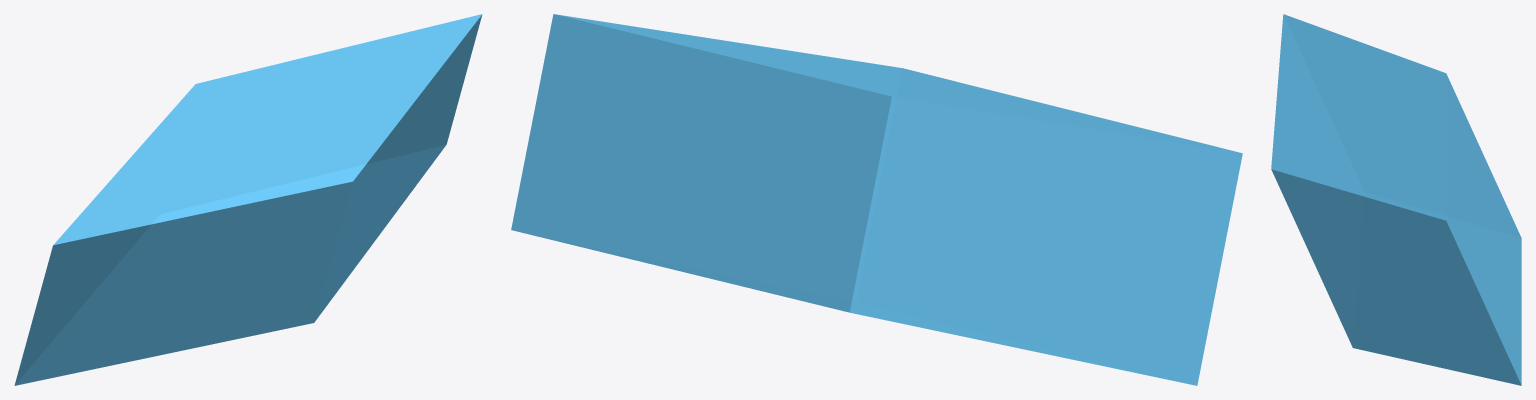
Rendered from Event_420604493_HBrechit_21.fbx.
The picture shows the model from 3 angles, left to right: view 1: azimuth 30°, elevation 25°; view 2: azimuth 150°, elevation 25°; view 3: azimuth 270°, elevation 25°; orthographic projection. The views are drawn at different scales.
Parts seen in each view (by area): view 1: Model; view 2: Model; view 3: Model.
Part boxes in pixels (bbox=[...]): Model: bbox=[14, 14, 482, 385]; Model: bbox=[511, 14, 1242, 385]; Model: bbox=[1271, 14, 1521, 385].
Bounding box in the file's own units: 1.25 × 0.5314 × 0.5102.
